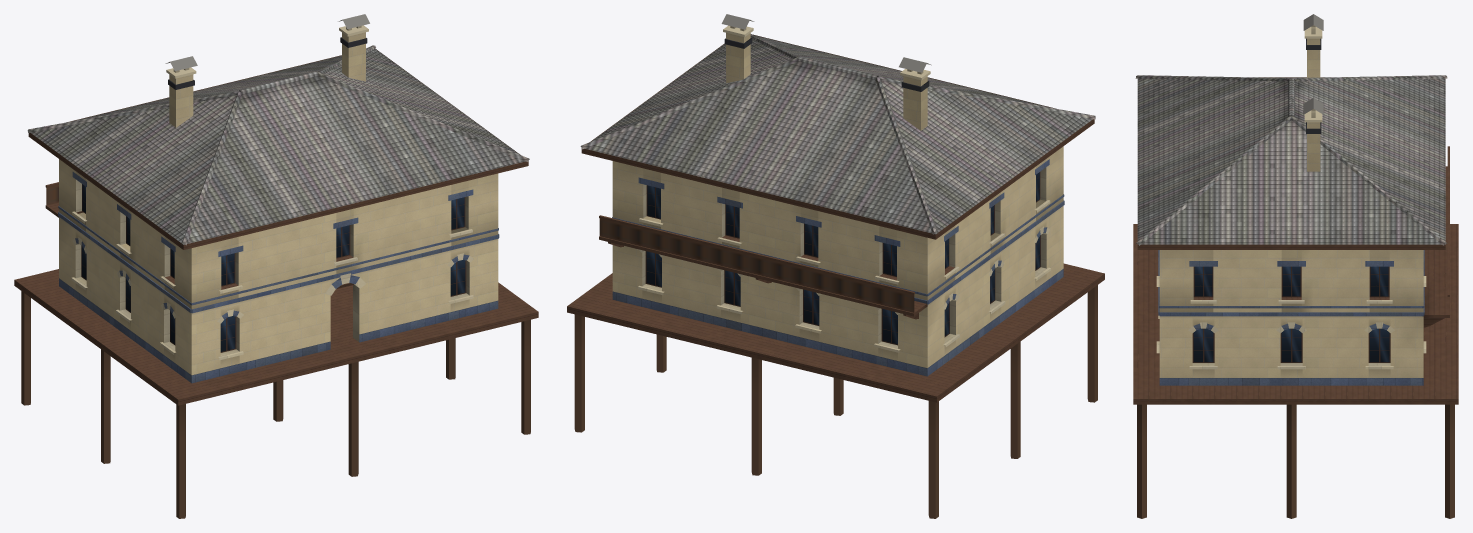
The model's file is inn_shell.gltf.
3 renders of one model, left to right at view 1: azimuth 30°, elevation 25°; view 2: azimuth 150°, elevation 25°; view 3: azimuth 270°, elevation 25°, orthographic. The views are drawn at different scales.
Parts seen in each view (by area): view 1: inn_shell; view 2: inn_shell; view 3: inn_shell.
Part boxes in pixels (bbox=[...]): inn_shell: bbox=[14, 14, 538, 518]; inn_shell: bbox=[567, 14, 1104, 518]; inn_shell: bbox=[1133, 14, 1458, 518].
Size of the model in its own units: 18.8 by 18.64 by 14.8.
4 materials, 4 textured.
